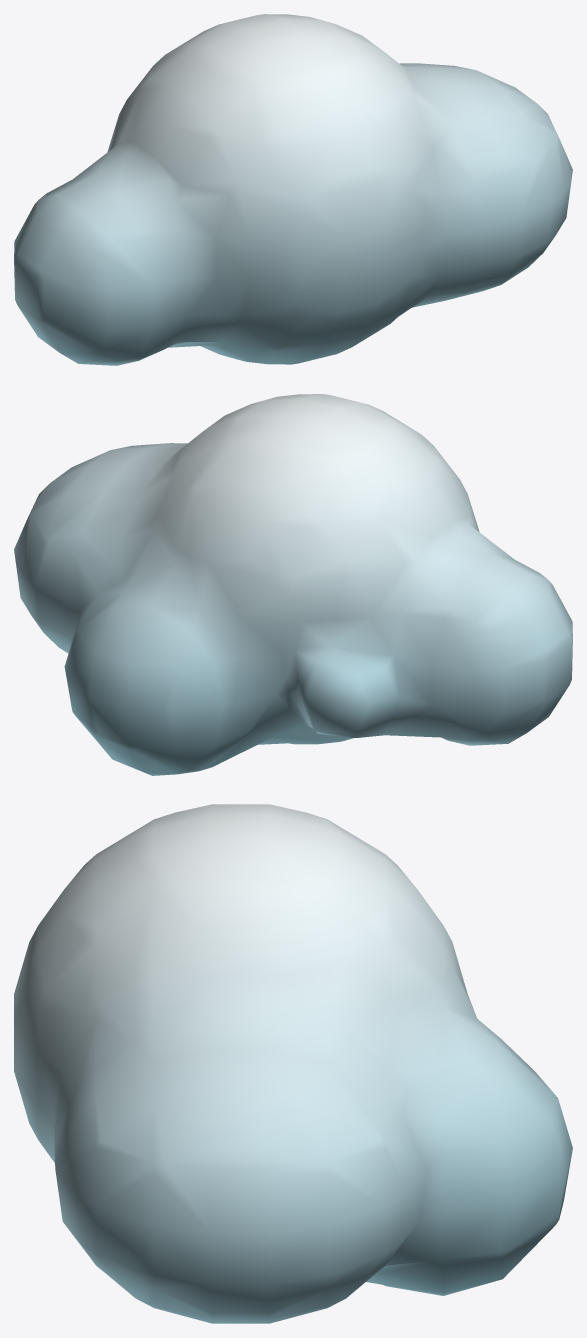
File: SM_Cloud_Chonky.fbx
3 renders of one model, top to bottom at view 1: azimuth 30°, elevation 25°; view 2: azimuth 150°, elevation 25°; view 3: azimuth 270°, elevation 25°, orthographic. The views are drawn at different scales.
Visible parts, largest first — view 1: SM_Cloud_Chonky; view 2: SM_Cloud_Chonky; view 3: SM_Cloud_Chonky.
Boxes of the visible parts, bbox=[...] form: SM_Cloud_Chonky: bbox=[14, 14, 572, 365]; SM_Cloud_Chonky: bbox=[14, 394, 572, 775]; SM_Cloud_Chonky: bbox=[14, 804, 572, 1323].
Size of the model in its own units: 55.5 by 31.85 by 38.98.
